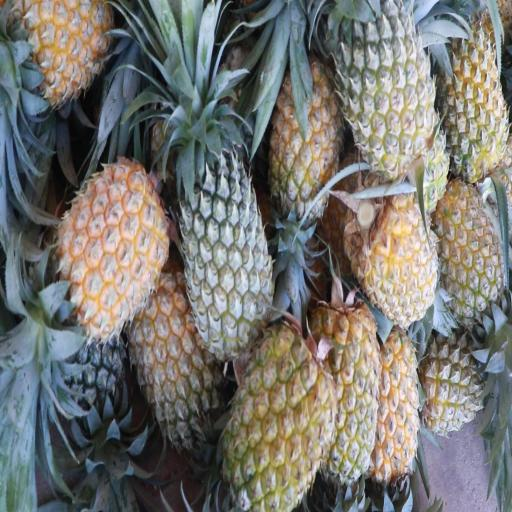------------------------------: (341, 7, 433, 176), (125, 279, 215, 438), (443, 22, 508, 178), (437, 182, 505, 314), (420, 330, 496, 438)
Pineapple - v8 v1: (227, 330, 334, 512), (58, 161, 160, 328), (260, 60, 336, 221), (313, 303, 381, 482), (358, 186, 436, 327), (12, 0, 112, 100), (373, 331, 421, 486)
